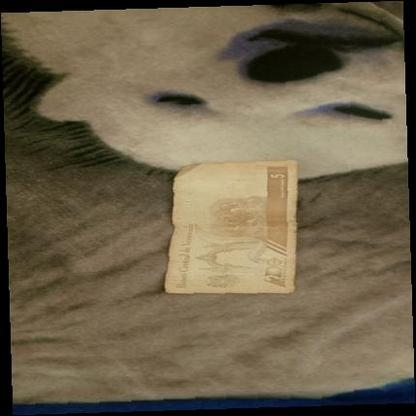vef_back: (164, 159, 298, 295)
